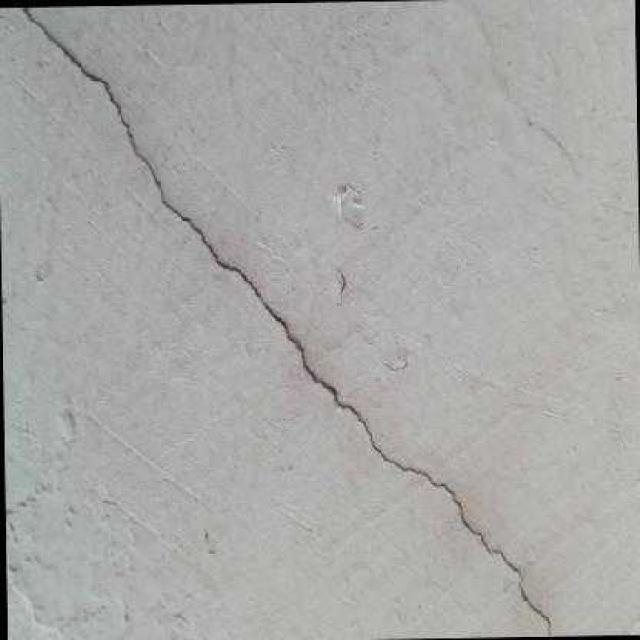D00: (19, 5, 552, 636)
